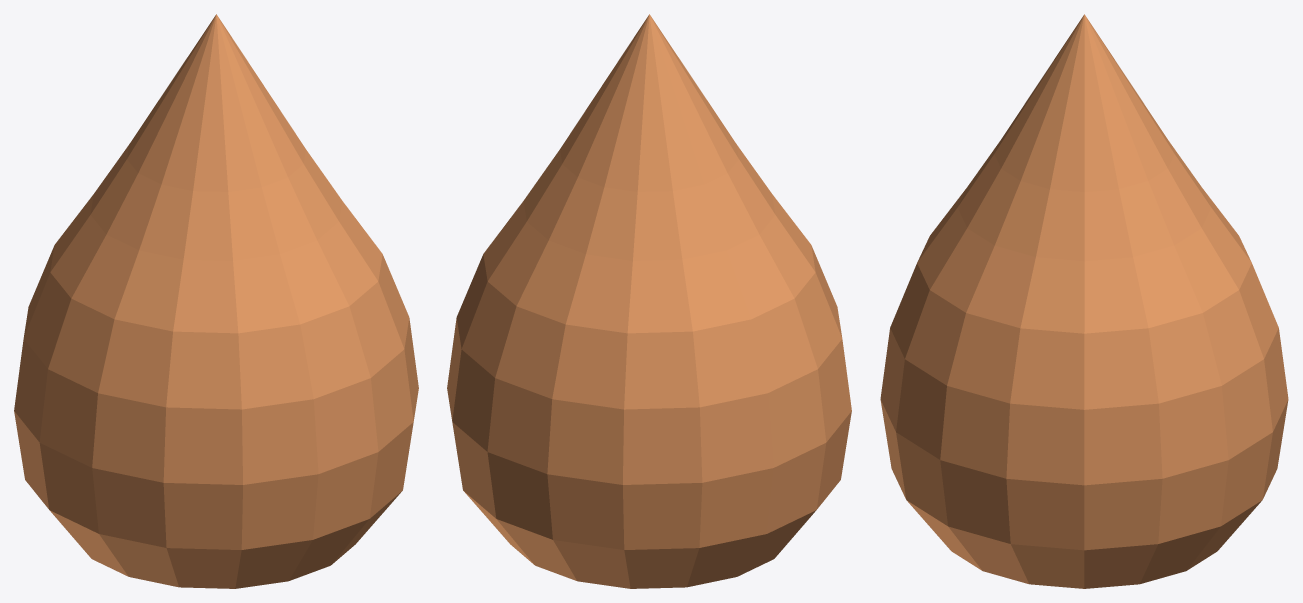
The model's file is Flame.fbx.
The picture shows the model from 3 angles, left to right: view 1: azimuth 30°, elevation 25°; view 2: azimuth 150°, elevation 25°; view 3: azimuth 270°, elevation 25°; orthographic projection.
Visible parts, largest first — view 1: Cone; view 2: Cone; view 3: Cone.
Part boxes in pixels (bbox=[...]): Cone: bbox=[14, 14, 418, 588]; Cone: bbox=[447, 14, 851, 588]; Cone: bbox=[880, 14, 1288, 588].
Bounding box in the file's own units: 63.02 × 92.56 × 63.02.
